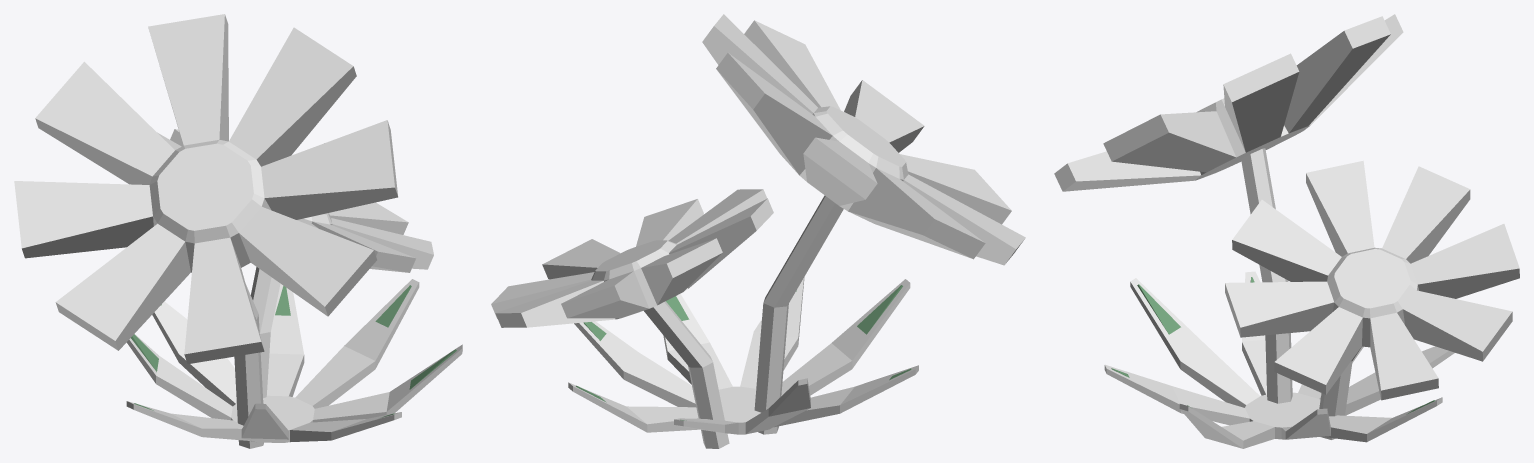
The model's file is resource__flowers__small-flowers-1.fbx.
3 views of the same model, side by side, from view 1: azimuth 30°, elevation 25°; view 2: azimuth 150°, elevation 25°; view 3: azimuth 270°, elevation 25° (orthographic). The views are drawn at different scales.
Parts seen in each view (by area): view 1: Small_Flowers_1; view 2: Small_Flowers_1; view 3: Small_Flowers_1.
Boxes of the visible parts, x1=… form: Small_Flowers_1: x1=14, y1=14, x2=462, y2=448; Small_Flowers_1: x1=491, y1=14, x2=1025, y2=448; Small_Flowers_1: x1=1054, y1=14, x2=1519, y2=448.
Bounding box in the file's own units: 172 × 154 × 165.
